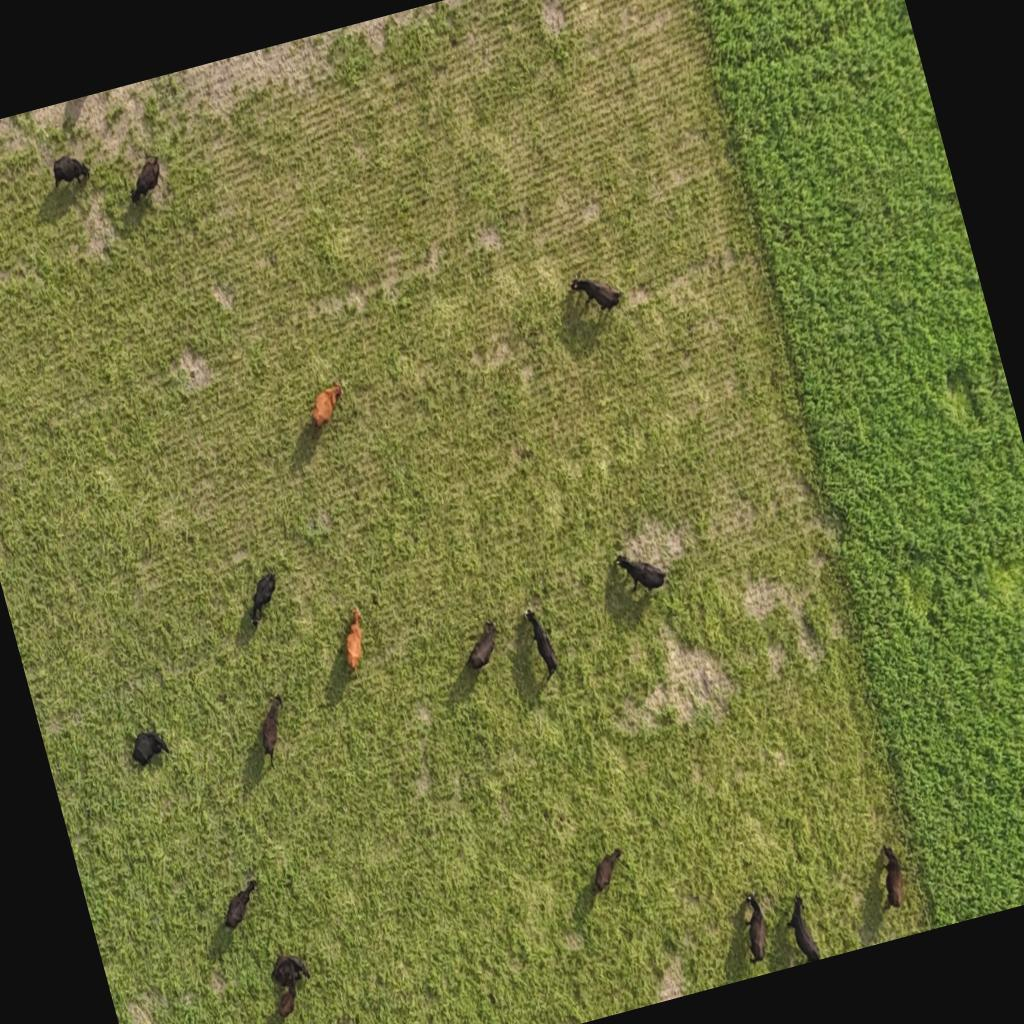cow: (257, 945, 323, 1024), (608, 536, 674, 612), (562, 261, 629, 331), (292, 374, 356, 446), (208, 876, 272, 946), (246, 691, 300, 772), (232, 566, 289, 638), (574, 845, 634, 912), (521, 602, 564, 684), (734, 890, 778, 968), (330, 606, 376, 678), (778, 892, 822, 966), (868, 842, 912, 914), (458, 616, 508, 674), (122, 152, 171, 208), (46, 148, 94, 192), (126, 726, 173, 770)
